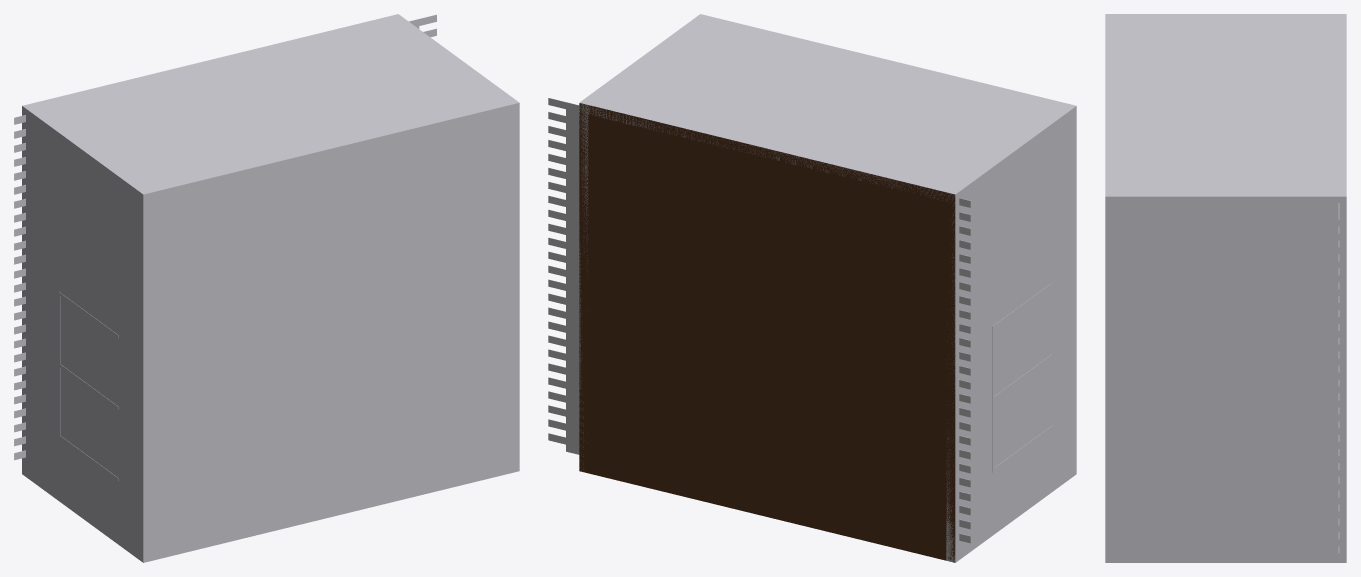
The model's file is bedroom.obj.
3 renders of one model, left to right at view 1: azimuth 30°, elevation 25°; view 2: azimuth 150°, elevation 25°; view 3: azimuth 270°, elevation 25°, orthographic.
Parts seen in each view (by area): view 1: Default; view 2: Default; view 3: Default.
Boxes of the visible parts, x1,y1,x2,y2 form: Default: (14,14,519,562); Default: (548,14,1076,562); Default: (1105,14,1346,562).
Bounding box in the file's own units: 6.96 × 5.8 × 3.46.
